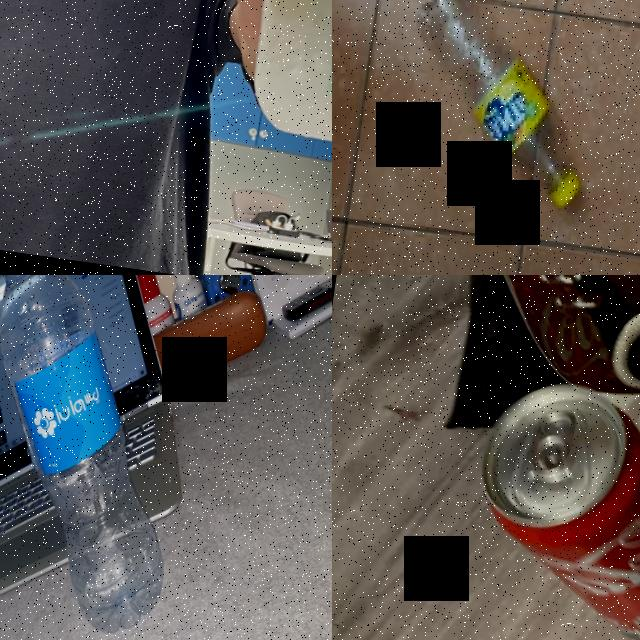bottle: (0, 275, 213, 640), (388, 0, 609, 214)
can: (459, 372, 640, 640)
cup: (218, 0, 332, 165)
